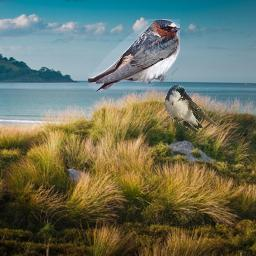Swallow: (88, 19, 180, 93), (163, 84, 222, 133)
